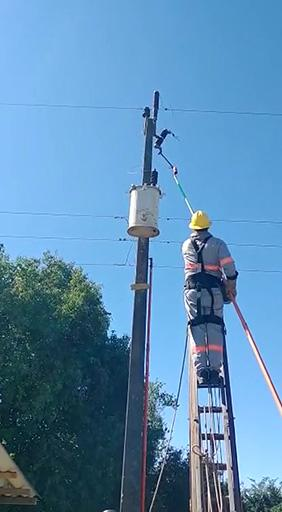Vara_Manobra: (171, 176, 282, 410)
